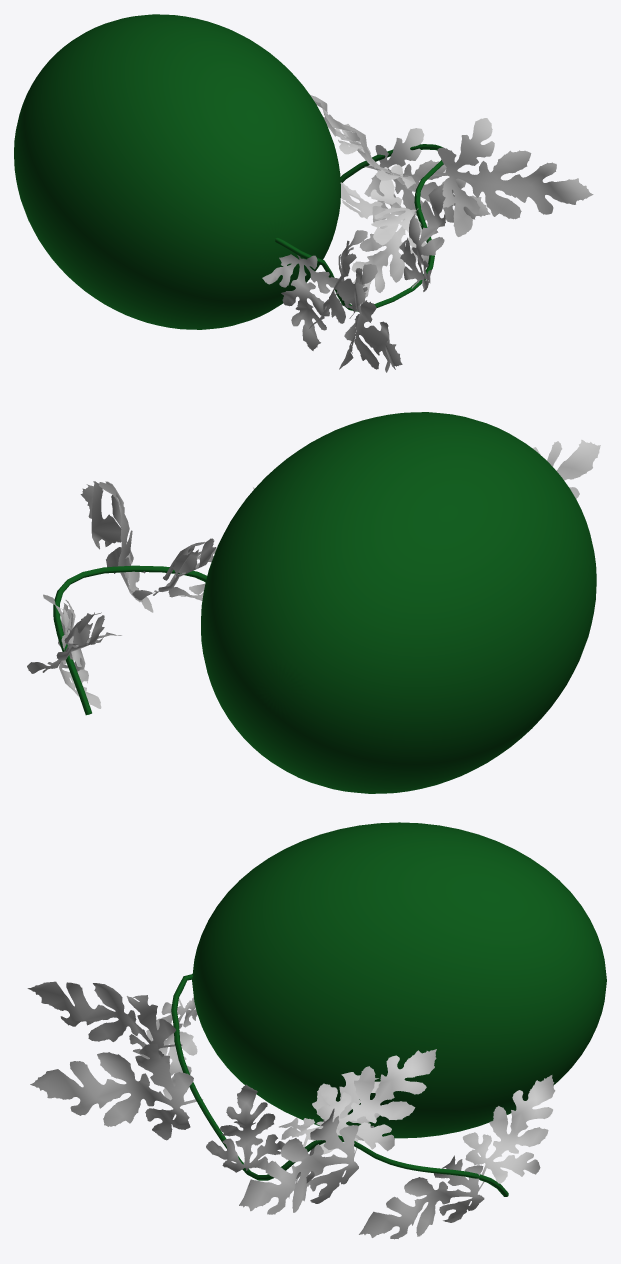
Rendered from Watermelon.fbx.
3 views of the same model, one above another, from view 1: azimuth 30°, elevation 25°; view 2: azimuth 150°, elevation 25°; view 3: azimuth 270°, elevation 25° (orthographic). The views are drawn at different scales.
Visible parts, largest first — view 1: Sphere.001; view 2: Sphere.001; view 3: Sphere.001.
Boxes of the visible parts, bbox=[...] form: Sphere.001: bbox=[14, 14, 593, 372]; Sphere.001: bbox=[27, 412, 600, 793]; Sphere.001: bbox=[27, 822, 606, 1239].
Size of the model in its own units: 364 by 199 by 370.
